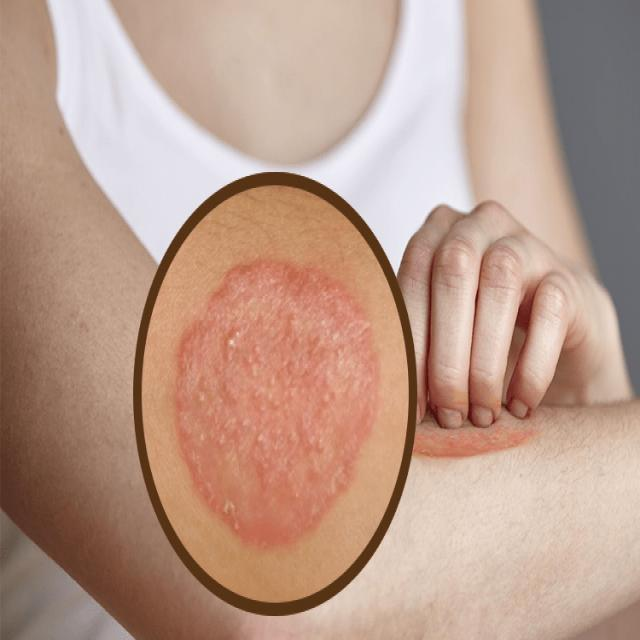tinea: (161, 239, 394, 547), (163, 243, 396, 545)
